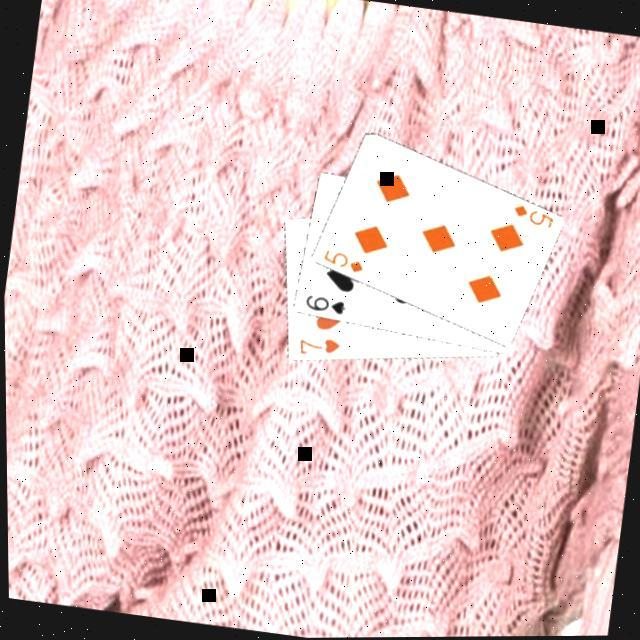5D: (316, 245, 366, 277), (506, 200, 556, 232)
6S: (299, 290, 348, 318)
7H: (291, 331, 341, 362)
